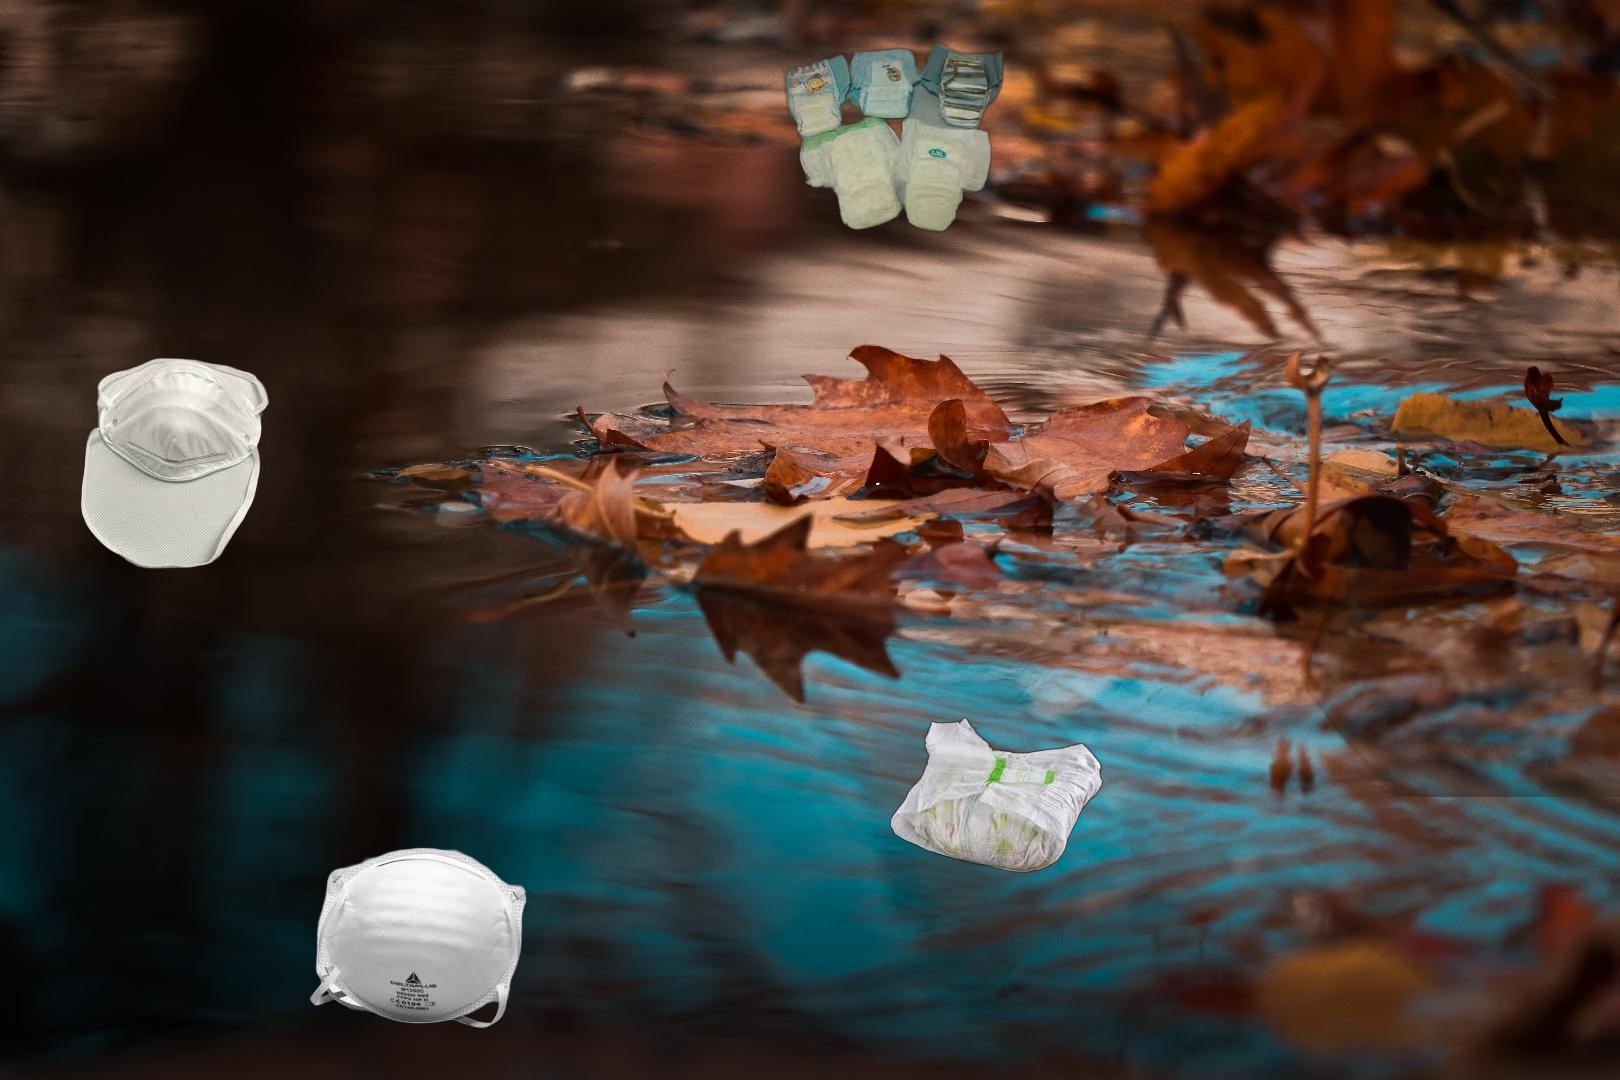trash: (780, 40, 1005, 235), (78, 356, 272, 573), (307, 845, 532, 1031), (887, 715, 1107, 875)
trashbox-cardboard: (1260, 413, 1620, 797)
